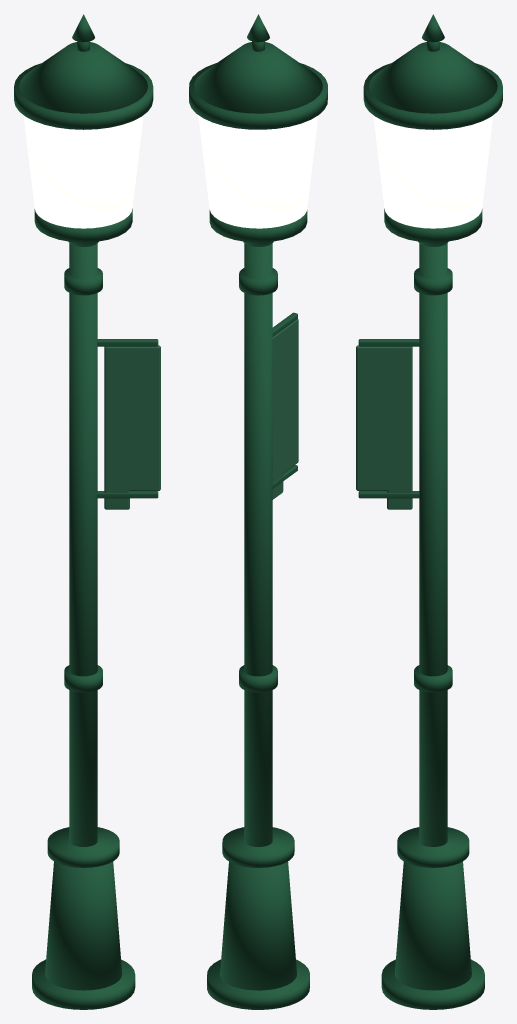
The model's file is street_lamp.glb.
3 renders of one model, left to right at view 1: azimuth 90°, elevation 25°; view 2: azimuth 150°, elevation 25°; view 3: azimuth 270°, elevation 25°, orthographic.
Parts seen in each view (by area): view 1: Post, Lantern, Base, Banner, Roof, LanternTop, Foot, BaseRing, LanternBase, Collar1.3, Collar3.0, BannerArm2.75 (+3 smaller); view 2: Post, Lantern, Base, Roof, Banner, LanternTop, Foot, BaseRing, LanternBase, Collar1.3, Collar3.0, Finial; view 3: Post, Lantern, Base, Banner, Roof, LanternTop, Foot, BaseRing, LanternBase, Collar1.3, Collar3.0, BannerArm2.75 (+3 smaller).
Part boxes in pixels (bbox=[...]): Post: bbox=[69, 243, 97, 846]; Lantern: bbox=[23, 115, 143, 228]; Base: bbox=[45, 861, 122, 990]; Banner: bbox=[104, 345, 160, 490]; Roof: bbox=[19, 42, 147, 113]; LanternTop: bbox=[14, 63, 153, 129]; Foot: bbox=[32, 959, 135, 1009]; BaseRing: bbox=[47, 827, 119, 867]; LanternBase: bbox=[34, 208, 132, 242]; Collar1.3: bbox=[64, 665, 102, 692]; Collar3.0: bbox=[64, 268, 102, 295]; BannerArm2.75: bbox=[97, 339, 158, 346]; Post: bbox=[244, 243, 272, 846]; Lantern: bbox=[198, 115, 318, 228]; Base: bbox=[220, 861, 296, 990]; Roof: bbox=[194, 42, 322, 113]; Banner: bbox=[272, 319, 298, 479]; LanternTop: bbox=[189, 63, 327, 129]; Foot: bbox=[207, 959, 309, 1009]; BaseRing: bbox=[222, 827, 294, 867]; LanternBase: bbox=[209, 210, 307, 242]; Collar1.3: bbox=[239, 665, 277, 692]; Collar3.0: bbox=[239, 268, 277, 295]; Finial: bbox=[247, 14, 269, 42]; Post: bbox=[419, 243, 447, 846]; Lantern: bbox=[373, 115, 493, 228]; Base: bbox=[394, 861, 471, 990]; Banner: bbox=[356, 345, 412, 490]; Roof: bbox=[369, 42, 497, 113]; LanternTop: bbox=[363, 63, 502, 129]; Foot: bbox=[381, 959, 484, 1009]; BaseRing: bbox=[397, 827, 469, 867]; LanternBase: bbox=[384, 208, 482, 242]; Collar1.3: bbox=[414, 665, 452, 692]; Collar3.0: bbox=[414, 268, 452, 295]; BannerArm2.75: bbox=[358, 339, 419, 346].
Size of the model in its own units: 0.3522 by 2.72 by 0.3718.
